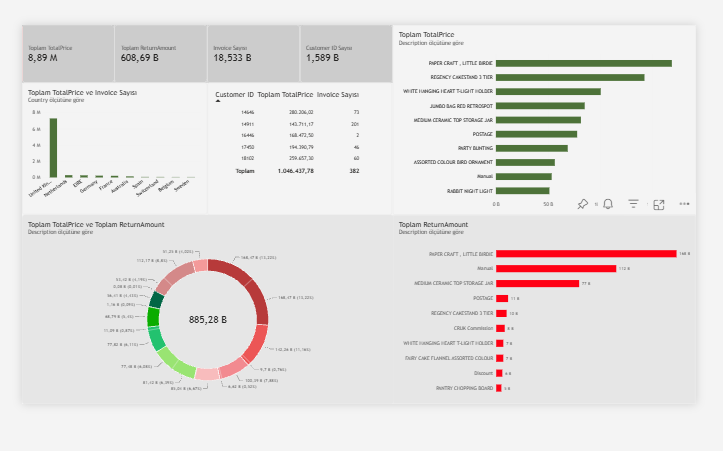

This screenshot's page, from the dashboard's own definition file:
{"tool":"powerbi","page":{"name":"1. sayfa","canvas":[1920,1080],"ordinal":0},"visuals":[{"type":"cardVisual","fields":{"Data":["Sum(sales.TotalPrice)"]},"box":[0,0,263.8,164.6],"z":0},{"type":"cardVisual","fields":{"Data":["Sum(returns.ReturnAmount)"]},"box":[263.8,0,263.8,164.6],"z":1},{"type":"cardVisual","fields":{"Data":["Count(returns.Customer ID)"]},"box":[791.5,0,263.8,164.6],"z":2},{"type":"cardVisual","fields":{"Data":["Count(sales.Invoice)"]},"box":[527.7,0,263.8,164.6],"z":3},{"type":"clusteredBarChart","fields":{"Category":["sales.Description"],"Y":["Sum(sales.TotalPrice)"]},"box":[1055.3,0,864.7,540.7],"z":4},{"type":"clusteredBarChart","fields":{"Category":["returns.Description"],"Y":["Sum(returns.ReturnAmount)"]},"box":[1055.3,540.7,864.7,538.1],"z":5},{"type":"columnChart","fields":{"Category":["sales.Country"],"Y":["Sum(sales.TotalPrice)"]},"box":[0,165,527.5,375],"z":6},{"type":"tableEx","fields":{"Values":["sales.Customer ID","Sum(sales.TotalPrice)","Count(sales.Invoice)"]},"box":[527.5,165,525,378],"z":7},{"type":"donutChart","fields":{"Category":["sales.Description"],"Y":["Sum(sales.TotalPrice)","Sum(returns.ReturnAmount)"]},"box":[0,541,1059,538.5],"z":8}]}

Visuals, with their boxes on the page's 1920x1080 design canvas (x1, y1, x2, y2). These are canvas units, not pixel positions in the 723x451 screenshot, which may show the page scaled, cropped or inside an application window:
cardVisual - Sum(sales.TotalPrice): bbox=(0, 0, 264, 165)
cardVisual - Sum(returns.ReturnAmount): bbox=(264, 0, 528, 165)
cardVisual - Count(returns.Customer ID): bbox=(792, 0, 1055, 165)
cardVisual - Count(sales.Invoice): bbox=(528, 0, 792, 165)
clusteredBarChart - sales.Description x Sum(sales.TotalPrice): bbox=(1055, 0, 1920, 541)
clusteredBarChart - returns.Description x Sum(returns.ReturnAmount): bbox=(1055, 541, 1920, 1079)
columnChart - sales.Country x Sum(sales.TotalPrice): bbox=(0, 165, 528, 540)
tableEx - sales.Customer ID x Sum(sales.TotalPrice): bbox=(528, 165, 1052, 543)
donutChart - sales.Description x Sum(sales.TotalPrice): bbox=(0, 541, 1059, 1080)
